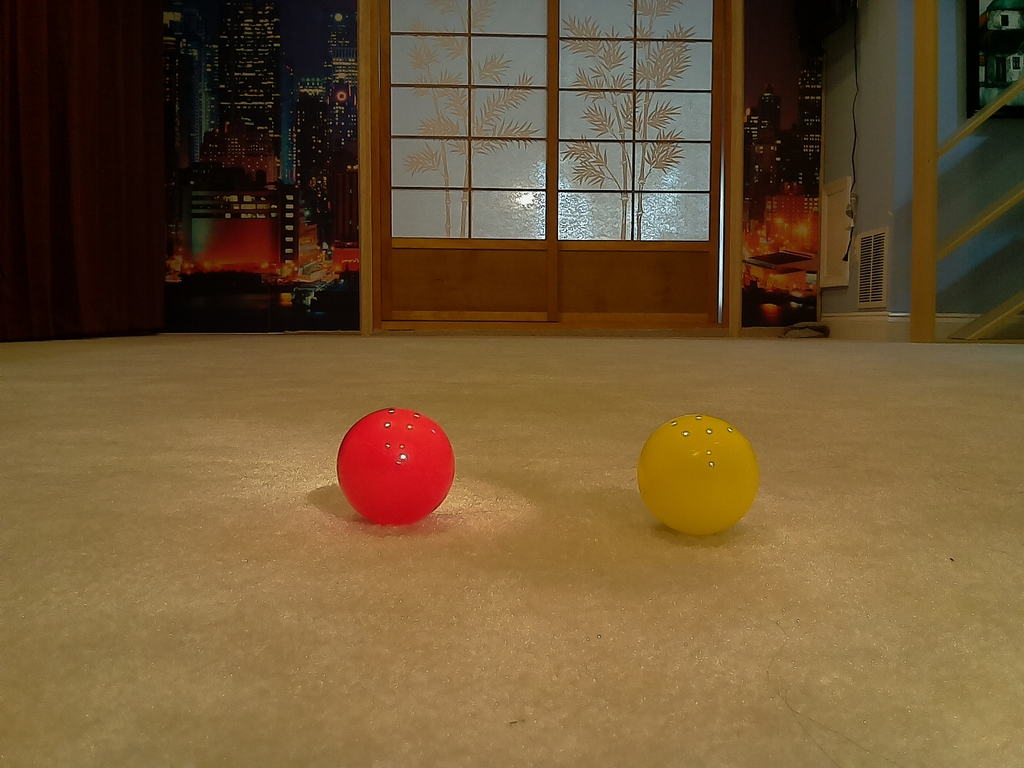ball: (339, 409, 454, 527)
